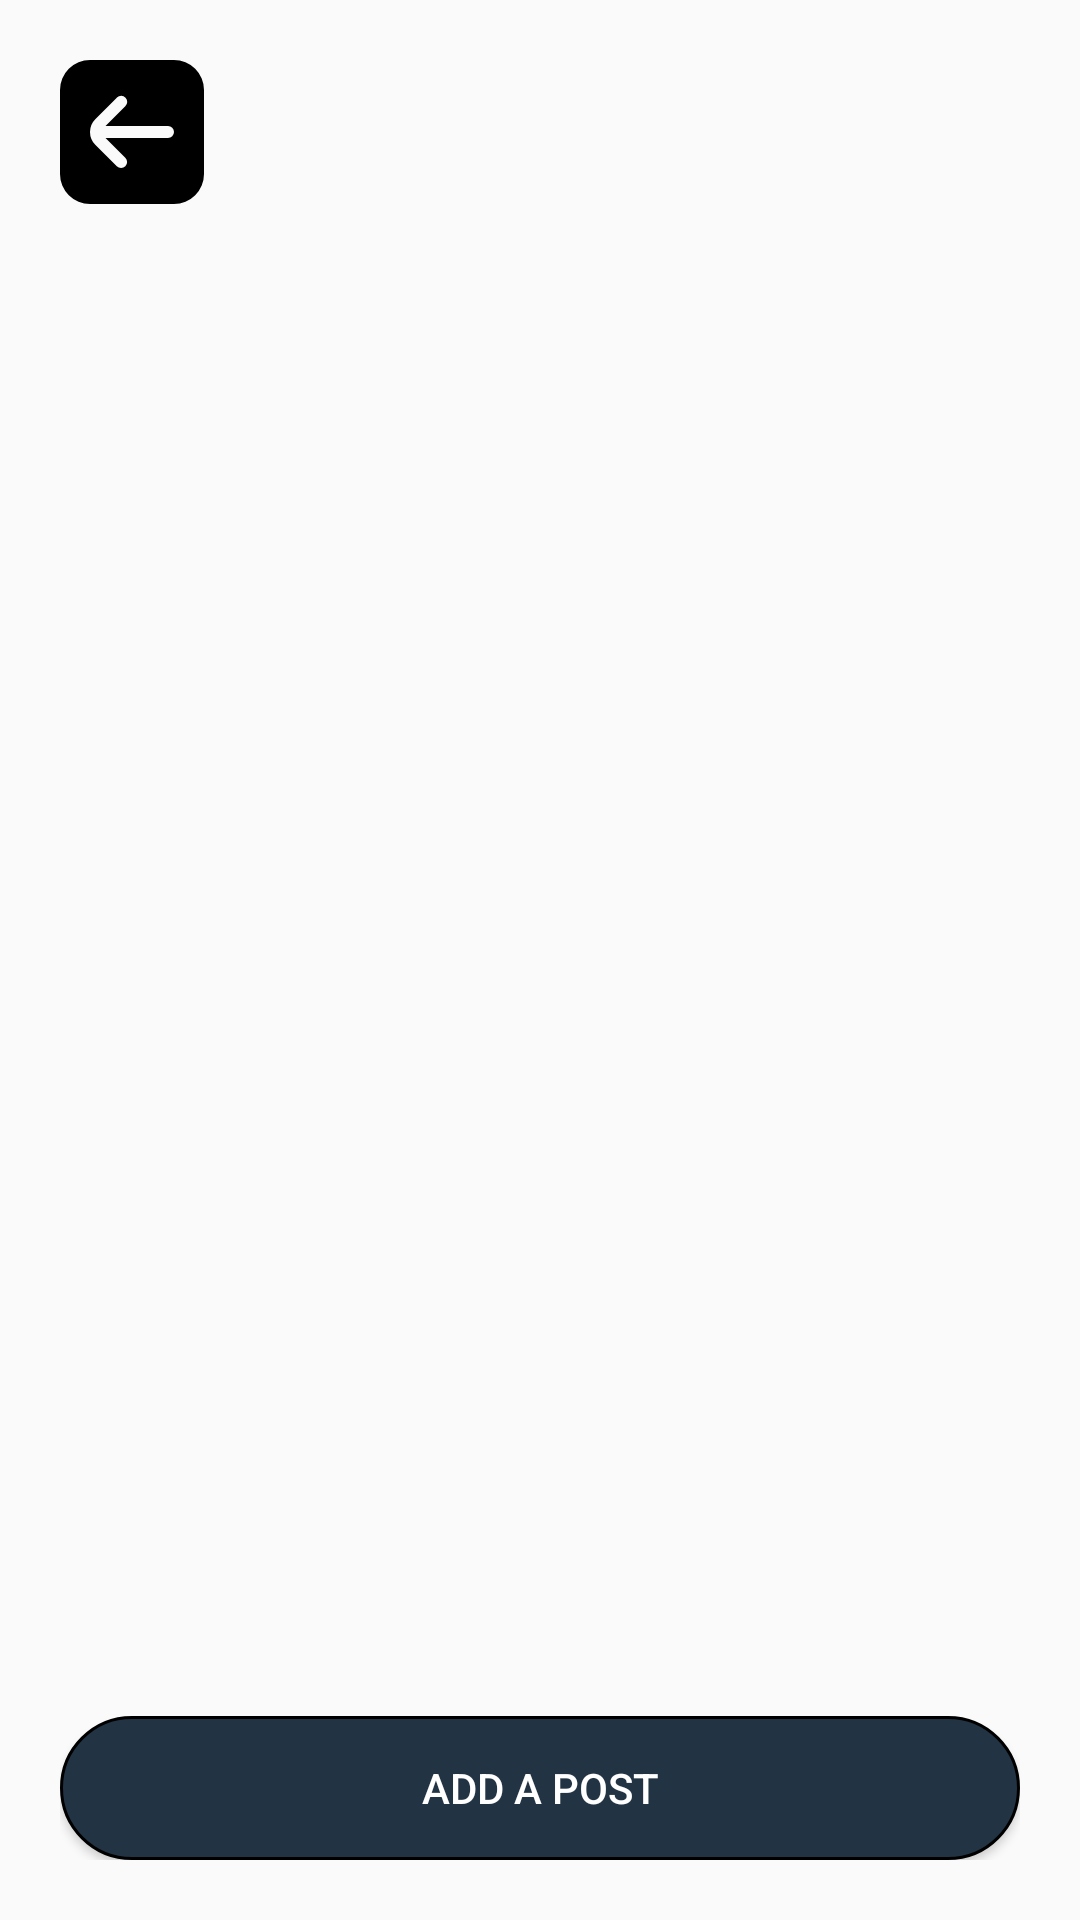

Screen size 1080w x 1920h. Icon name, then its box in pixels as BBox(x1, y1, x2, y2):
back button: BBox(60, 60, 204, 204)
